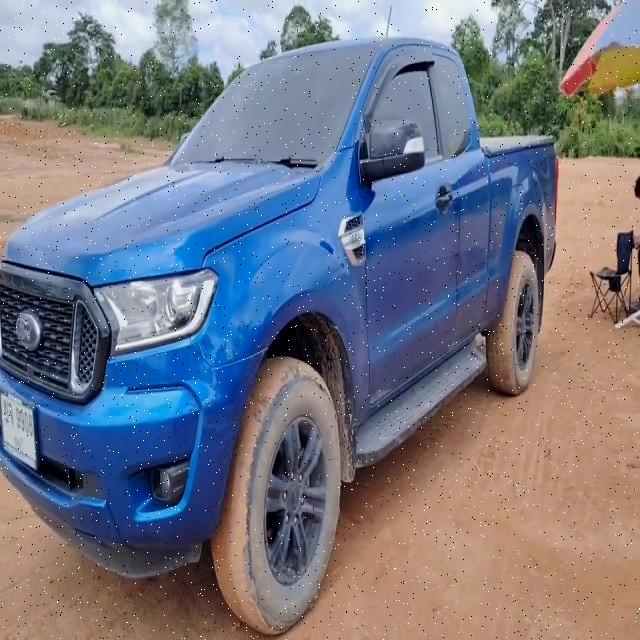Digit: (15, 406, 34, 437)
Licenseplate: (1, 390, 38, 472)
Provincename: (14, 433, 24, 453)
Thaichar: (3, 400, 14, 428)
